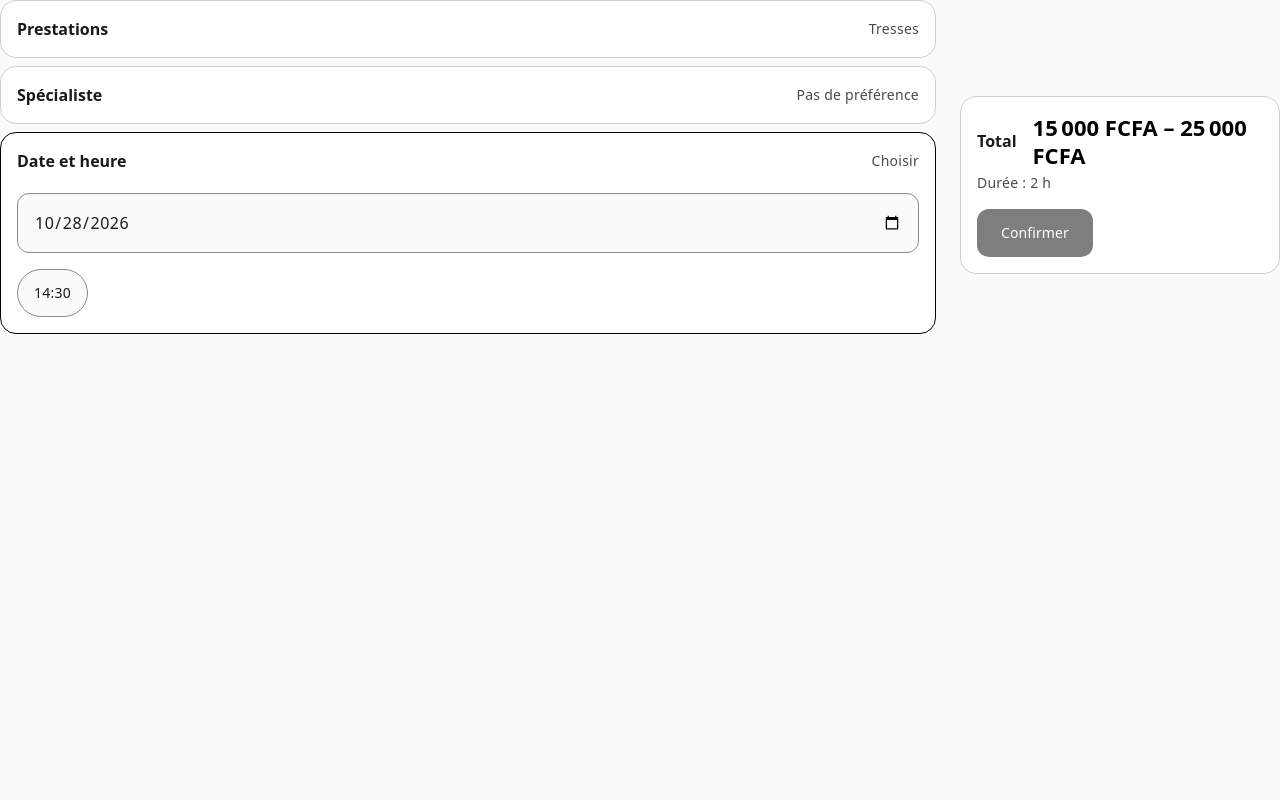
it: « Confirmer la réservation » (the client) › a real refusal keeps its own sentence
Click the button "14:30" at coordinates (52, 293), box [17,269,88,317]
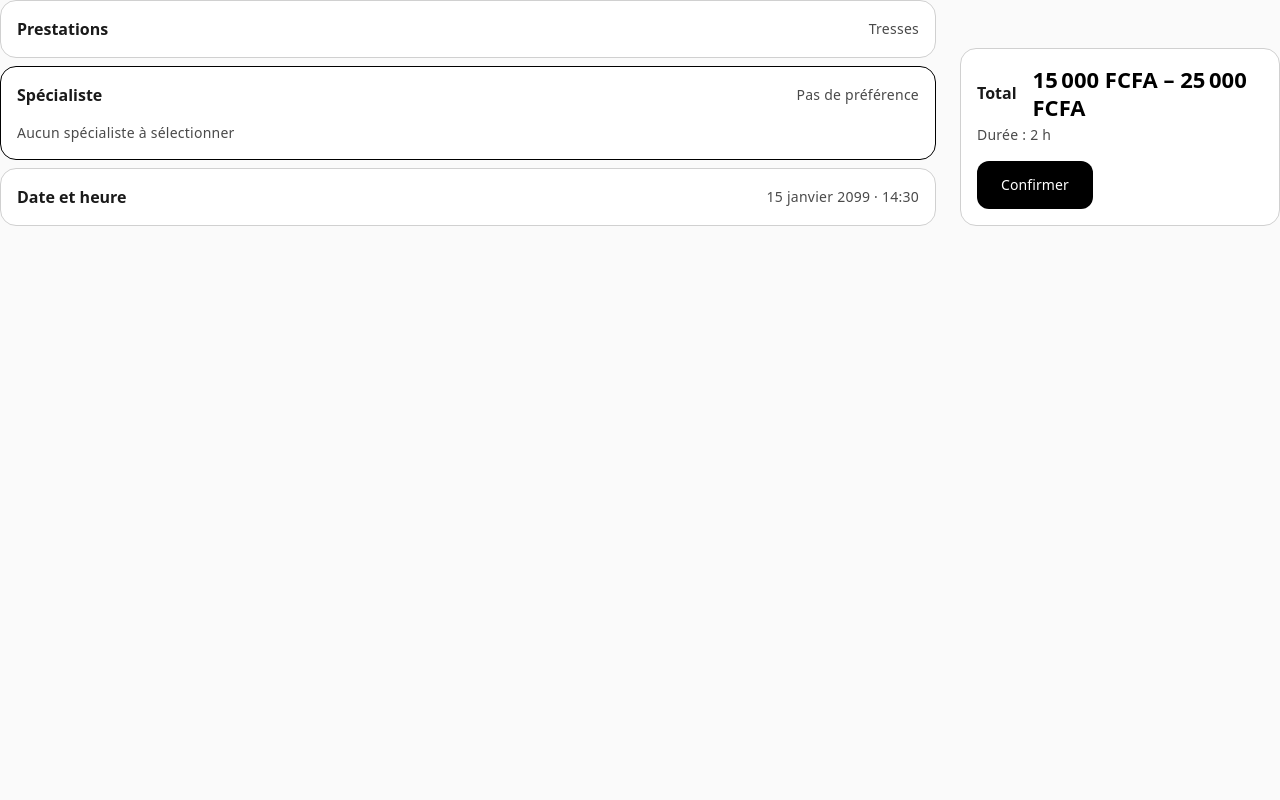
Click the button "Confirmer" at coordinates (1035, 185), box [977,161,1093,209]
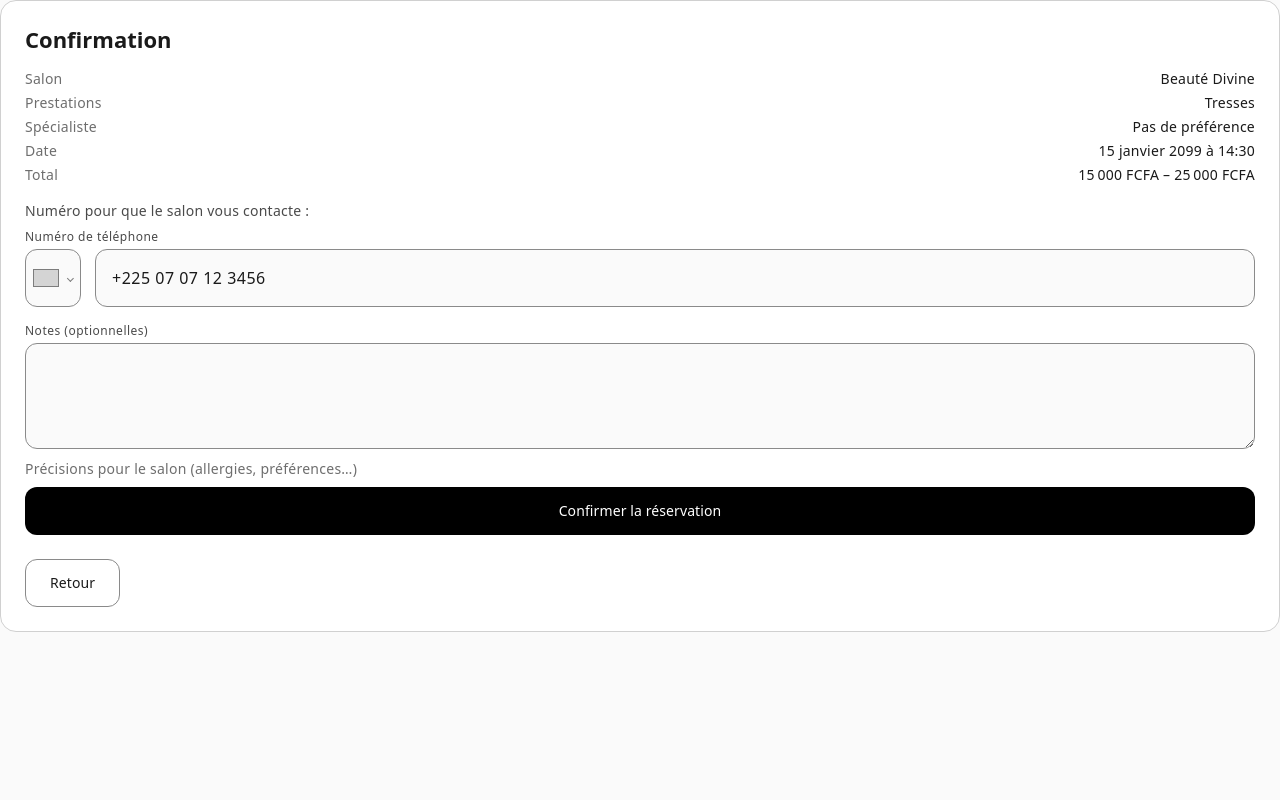
Expected: the field labelled "Numéro de téléphone" is shown, [95,249,1255,307]
Click the button "Confirmer la réservation" at coordinates (640, 511), box [25,487,1255,535]
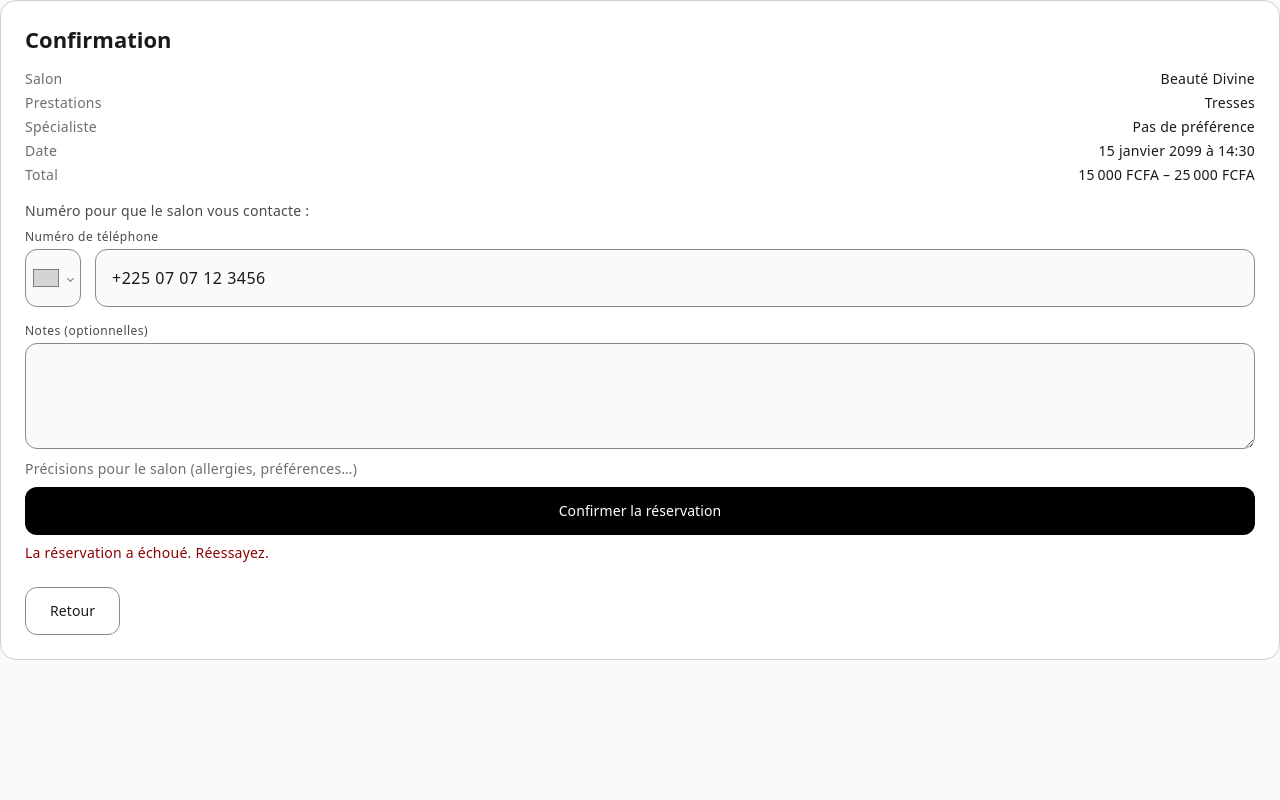
Expected: the message reads "La réservation a échoué. Réessayez.", [25,543,269,562]
